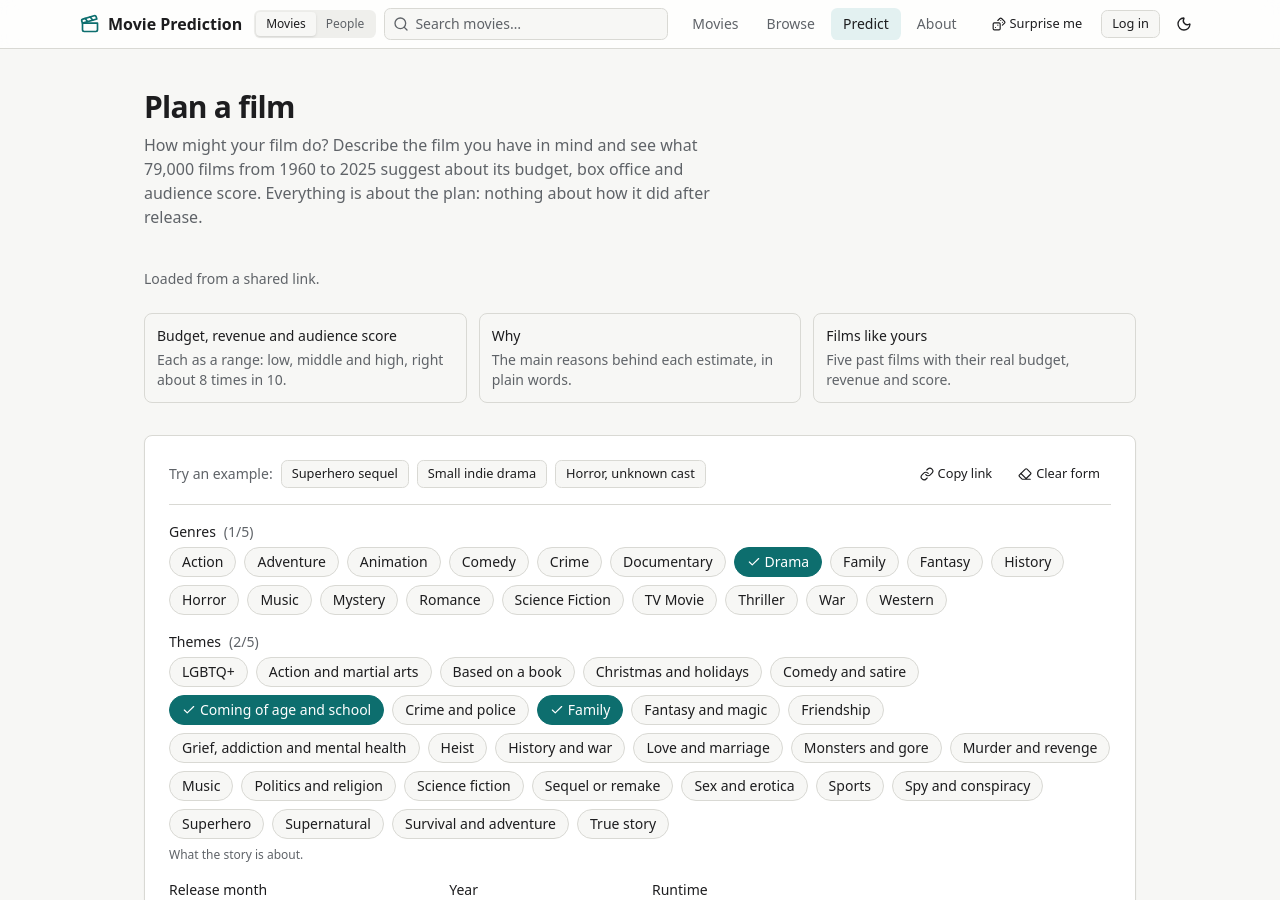
Test: the URL and the draft › "Clear form" empties the form, the draft and the URL
What coordinates should you click on to do the following:
click the button "Clear form"
I would click on:
 (1059, 474)
Its box is [1007,460,1111,488].
(page scrolled)
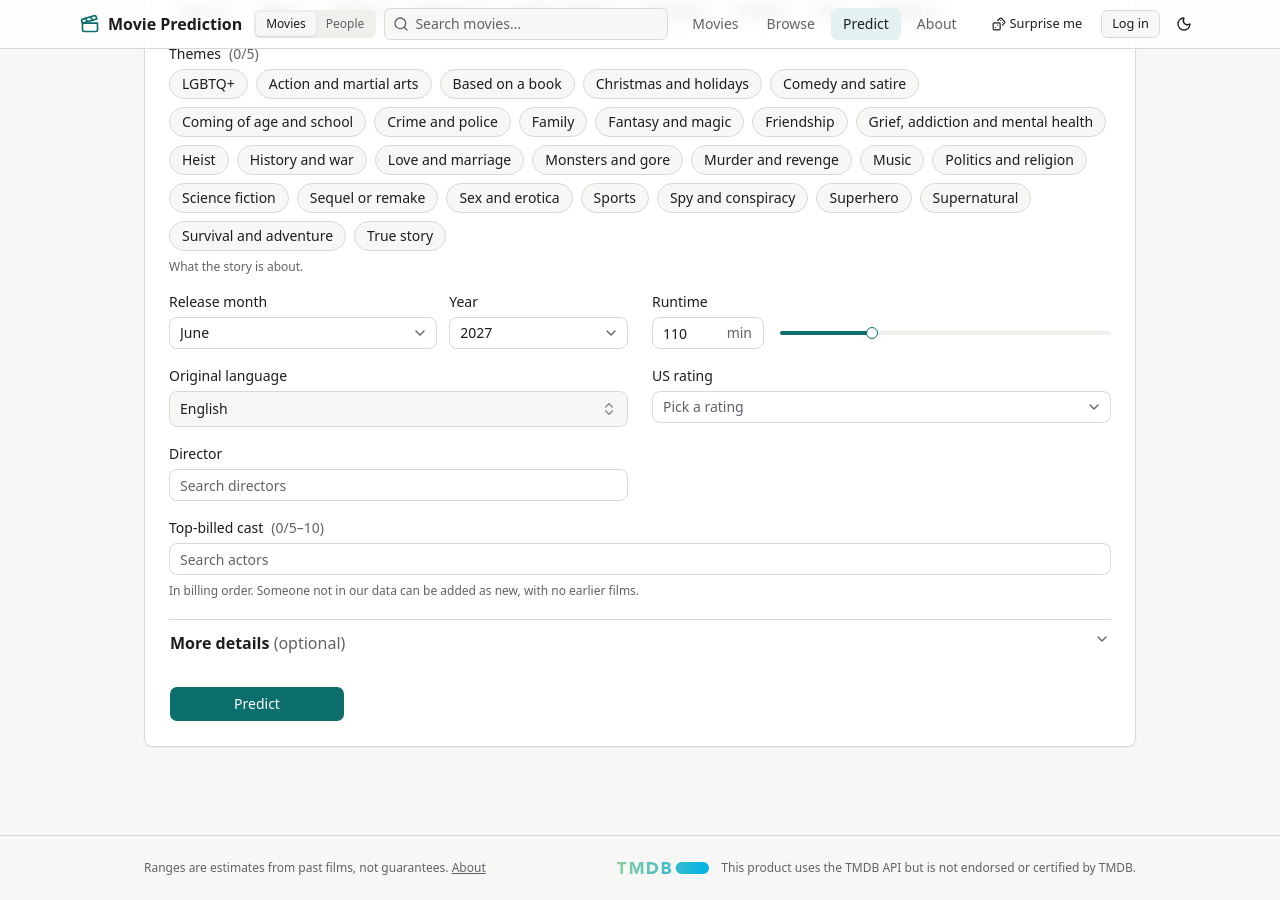
Result: the dropdown labelled "Director" is shown at [169,469,628,501]
